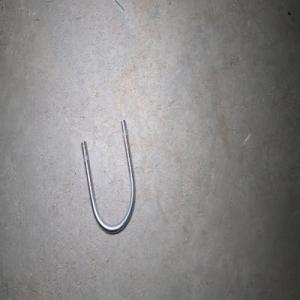ClampPart: (80, 119, 136, 235)
